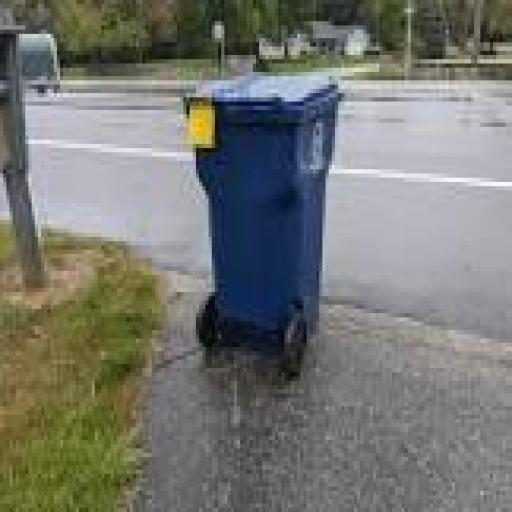poubelle_vide: (174, 51, 358, 365)
